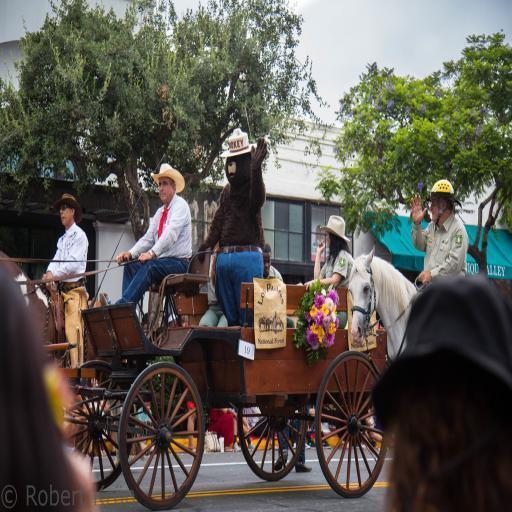horse: (0, 249, 146, 475), (342, 242, 420, 364)
